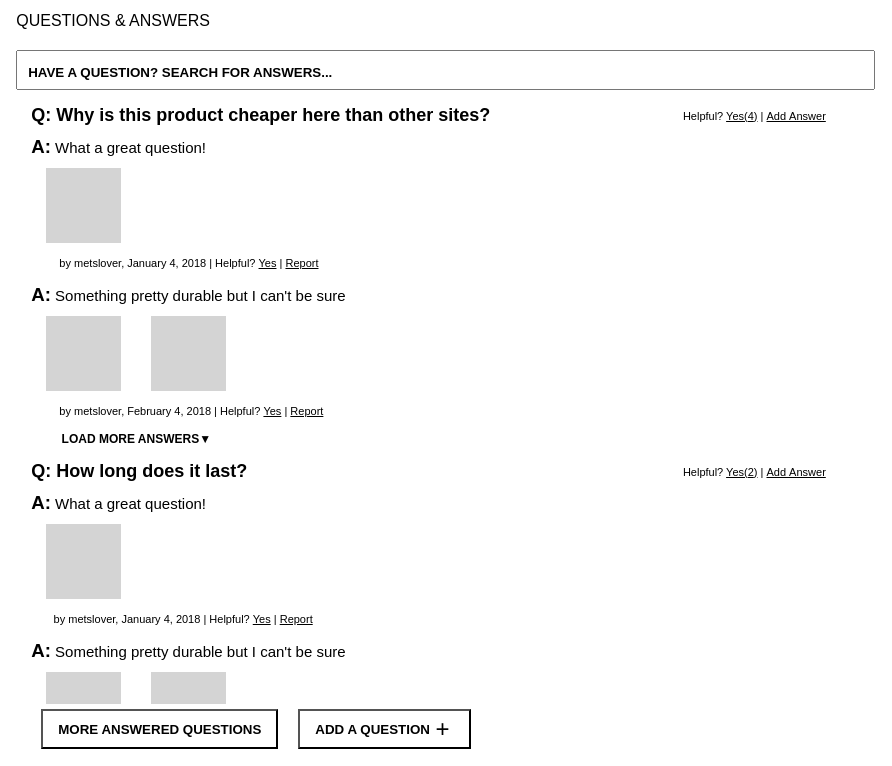
Scenario: QA › Should increase helpful count for question when yes is clicked
The image size is (892, 766).
Click the text with test id "qa-question-helpful" showing "Yes(4)" at (737, 116), box [726,110,758,122]
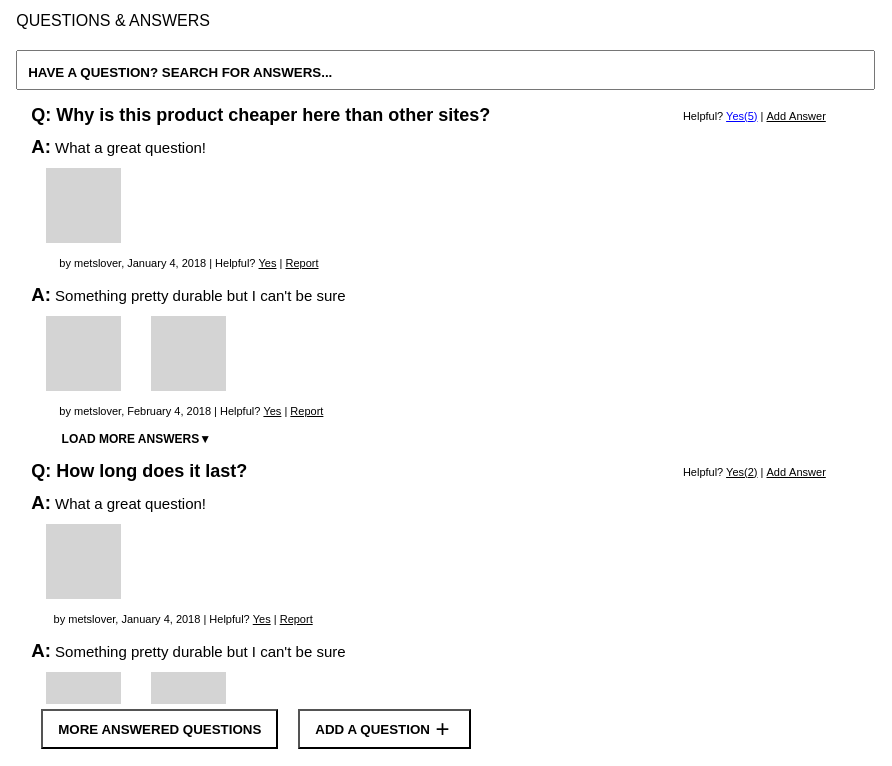
expect the text "Yes(5)" is shown: met, box [726,110,758,122]
